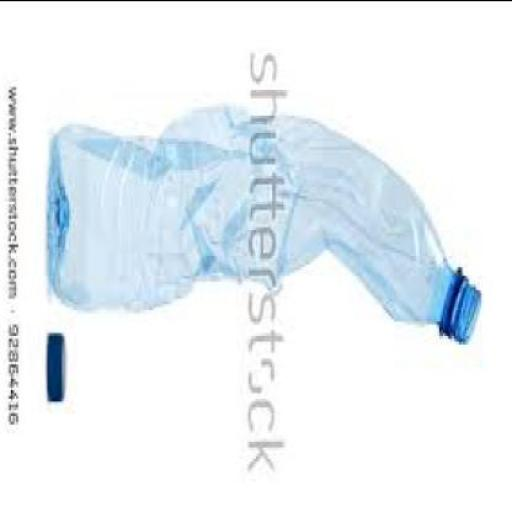plastic: (48, 106, 486, 340), (47, 328, 69, 398)
